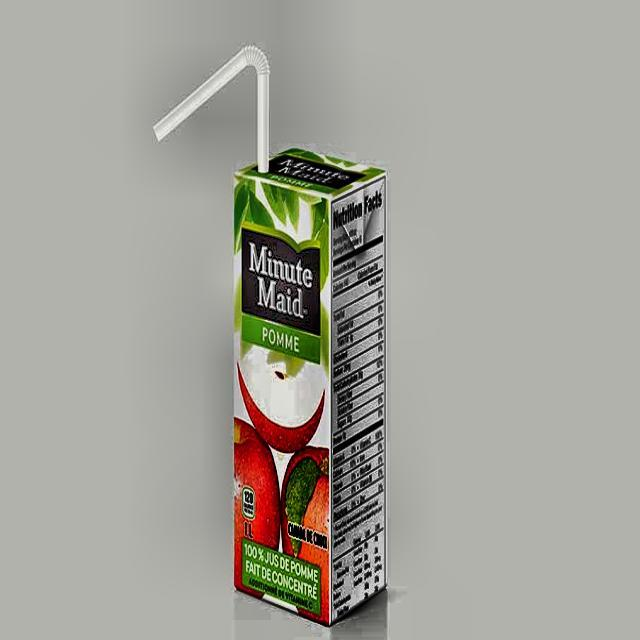cardboard: (231, 146, 388, 626)
